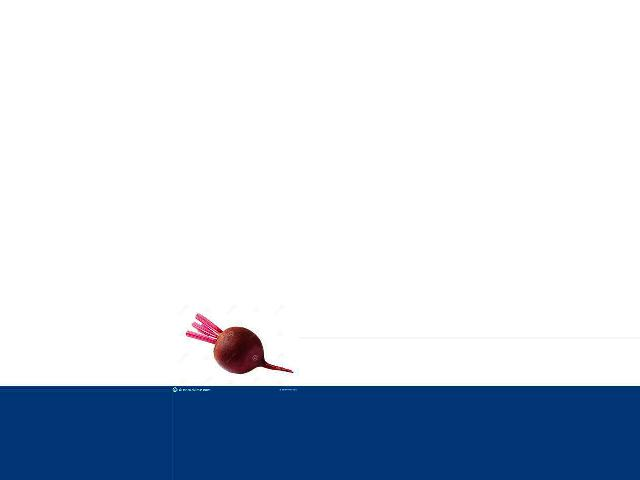beet: (186, 314, 292, 373)
